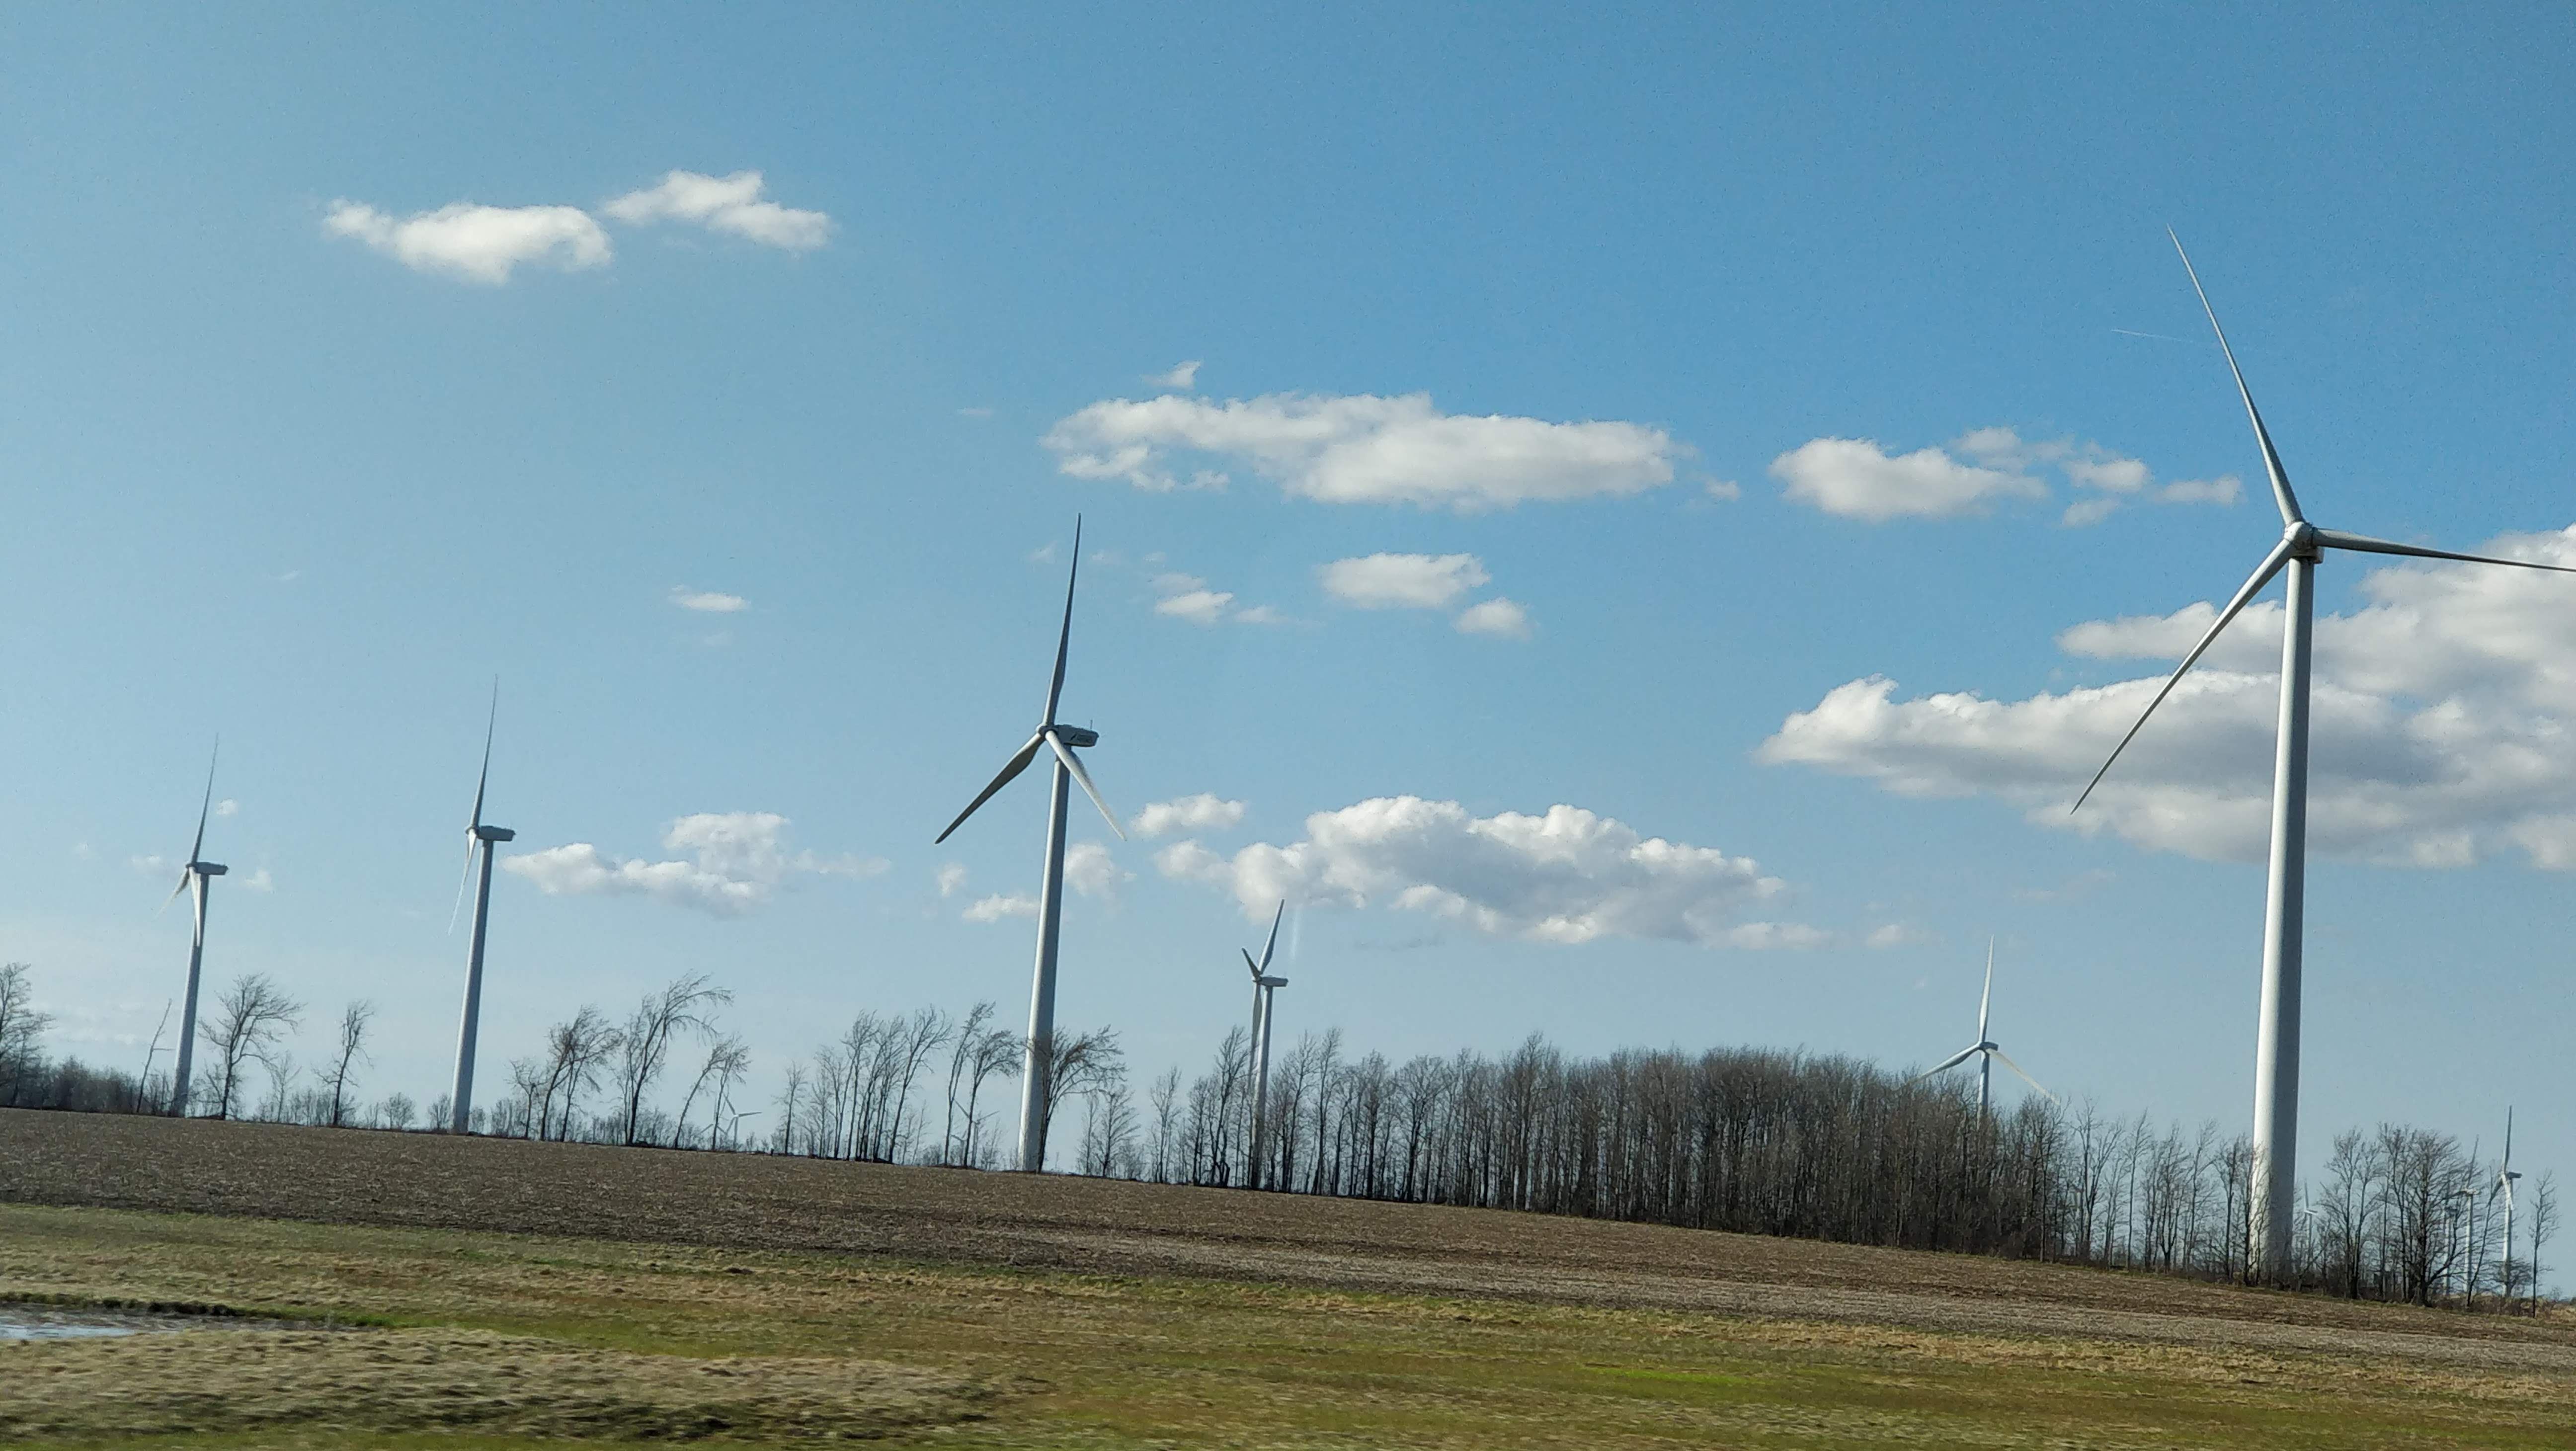working: (2081, 207, 2530, 917), (908, 508, 1159, 938)
